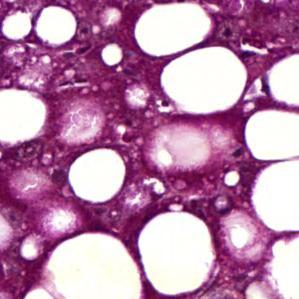steatosis: (67, 147, 129, 204)
